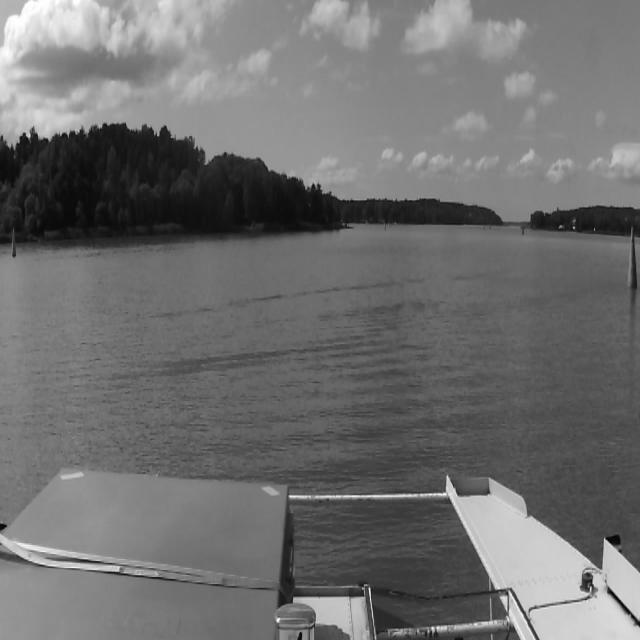buoy: (625, 225, 639, 291), (10, 226, 18, 258), (520, 224, 527, 237), (384, 219, 388, 233)
